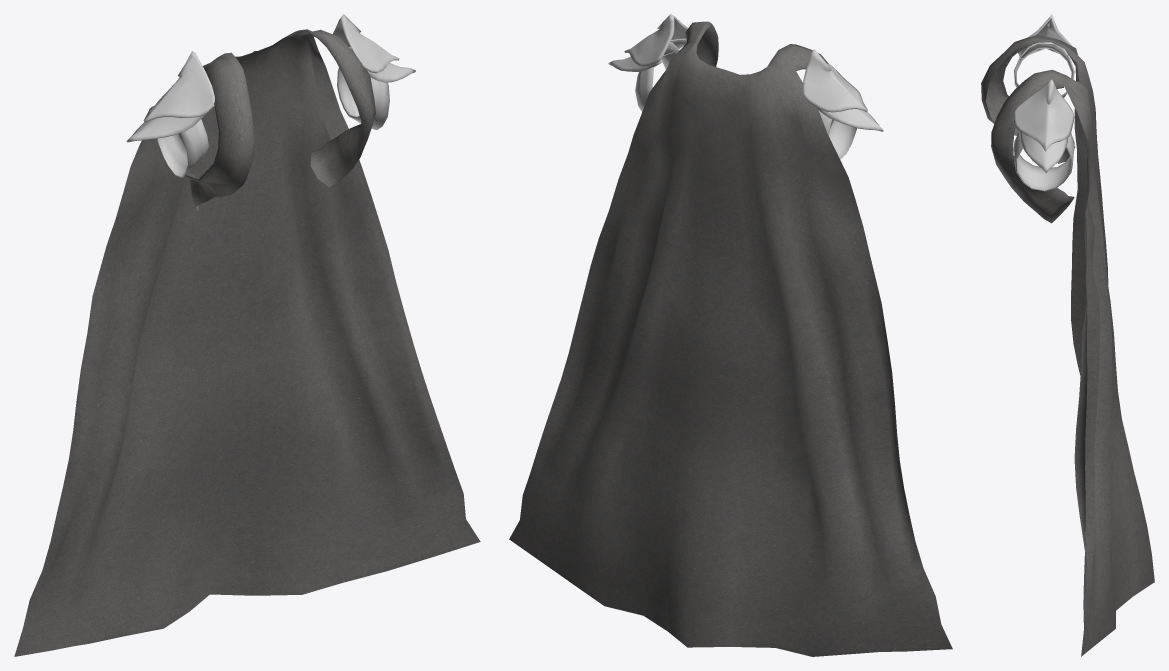
The model's file is rivendell_pauldron_tier1_cape_silvergold.fbx.
The picture shows the model from 3 angles, left to right: view 1: azimuth 30°, elevation 25°; view 2: azimuth 150°, elevation 25°; view 3: azimuth 270°, elevation 25°; orthographic projection. The views are drawn at different scales.
Parts seen in each view (by area): view 1: rivendell_pauldron_tier1_cape_silvergold.1, rivendell_pauldron_tier1_cape_silvergold.0; view 2: rivendell_pauldron_tier1_cape_silvergold.1, rivendell_pauldron_tier1_cape_silvergold.0; view 3: rivendell_pauldron_tier1_cape_silvergold.1, rivendell_pauldron_tier1_cape_silvergold.0.
Boxes of the visible parts, x1,y1,x2,y2 form: rivendell_pauldron_tier1_cape_silvergold.1: (14, 29, 480, 656); rivendell_pauldron_tier1_cape_silvergold.0: (126, 14, 415, 177); rivendell_pauldron_tier1_cape_silvergold.1: (509, 21, 952, 656); rivendell_pauldron_tier1_cape_silvergold.0: (608, 14, 883, 159); rivendell_pauldron_tier1_cape_silvergold.1: (981, 35, 1154, 656); rivendell_pauldron_tier1_cape_silvergold.0: (1013, 14, 1074, 191).
Bounding box in the file's own units: 1.22 × 0.4447 × 1.51.
